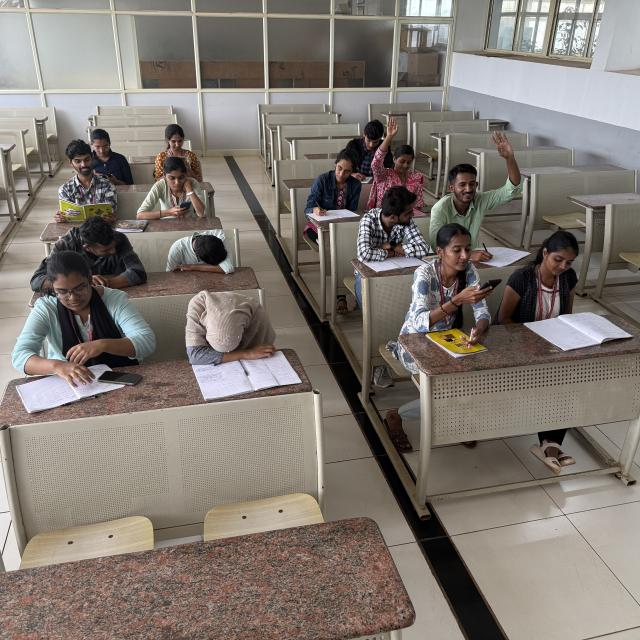Hand Rising: (441, 129, 524, 222), (371, 113, 418, 193)
Reading: (8, 246, 137, 392), (509, 224, 593, 336), (52, 136, 120, 226)
Sleeping: (20, 213, 169, 294), (176, 286, 294, 372), (164, 226, 238, 278)
Using Phone: (410, 221, 502, 329), (138, 154, 210, 218), (152, 119, 205, 182), (87, 126, 134, 181)
Writing: (440, 188, 528, 270), (308, 148, 364, 218), (349, 116, 389, 186)
